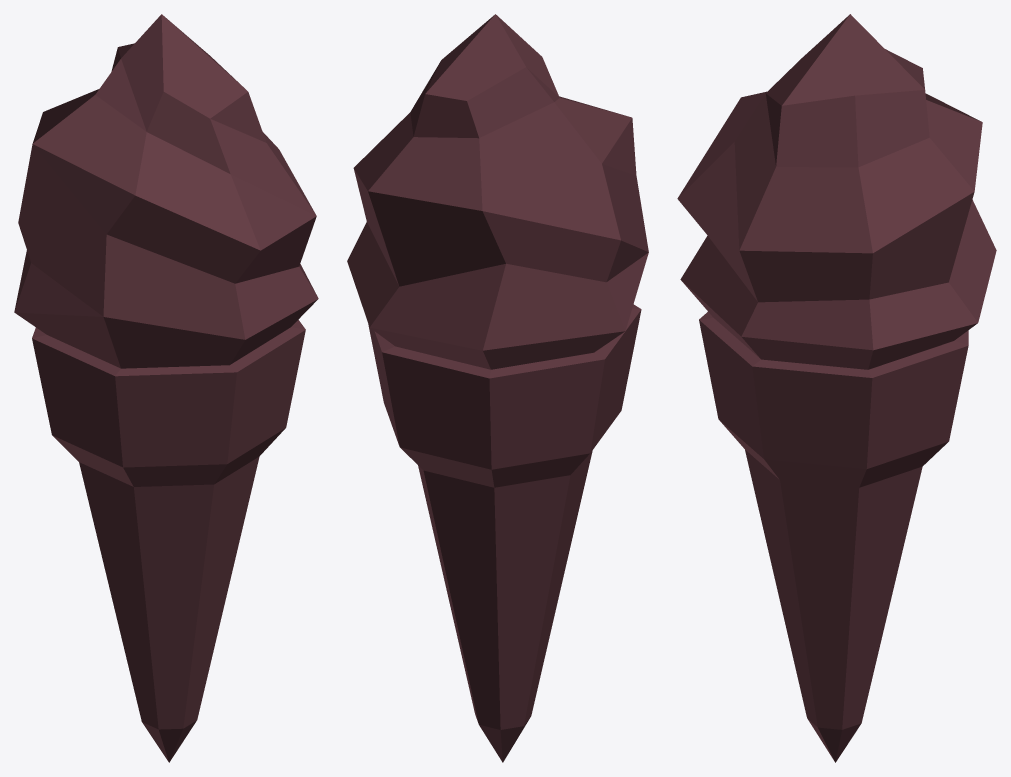
File: ice-cream-cone.fbx
3 views of the same model, side by side, from view 1: azimuth 30°, elevation 25°; view 2: azimuth 150°, elevation 25°; view 3: azimuth 270°, elevation 25° (orthographic).
Parts seen in each view (by area): view 1: ice-cream-cone; view 2: ice-cream-cone; view 3: ice-cream-cone.
Part boxes in pixels (bbox=[...]): ice-cream-cone: bbox=[14, 14, 318, 762]; ice-cream-cone: bbox=[347, 14, 648, 762]; ice-cream-cone: bbox=[677, 14, 996, 762].
Size of the model in its own units: 0.0743 by 0.1937 by 0.0748.
